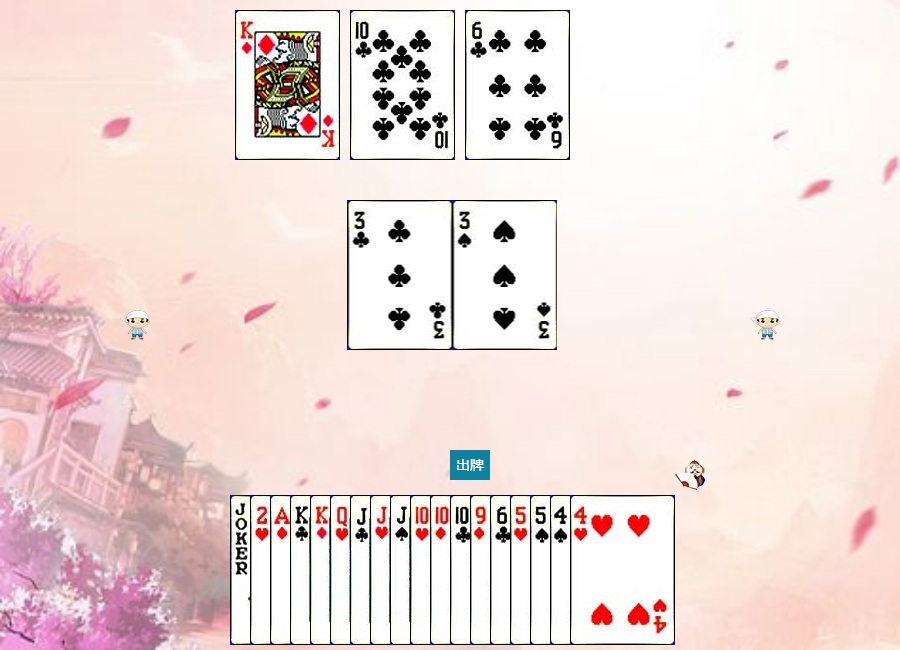10~1: (430, 495, 535, 645)
10~2: (350, 10, 455, 160), (450, 495, 555, 645)
10~3: (410, 495, 515, 645)
11~2: (350, 495, 455, 645)
11~3: (370, 495, 475, 645)
11~4: (390, 495, 495, 645)
12~3: (330, 495, 435, 645)
13~1: (235, 10, 340, 160), (310, 495, 415, 645)
13~2: (290, 495, 395, 645)
14~1: (270, 495, 375, 645)
15~3: (250, 495, 355, 645)
17~3: (230, 495, 335, 645)
3~2: (348, 200, 453, 350)
3~4: (453, 200, 558, 350)
4~3: (570, 495, 675, 645)
4~4: (550, 495, 655, 645)
5~3: (510, 495, 615, 645)
5~4: (530, 495, 635, 645)
6~2: (465, 10, 570, 160), (490, 495, 595, 645)
9~1: (470, 495, 575, 645)
